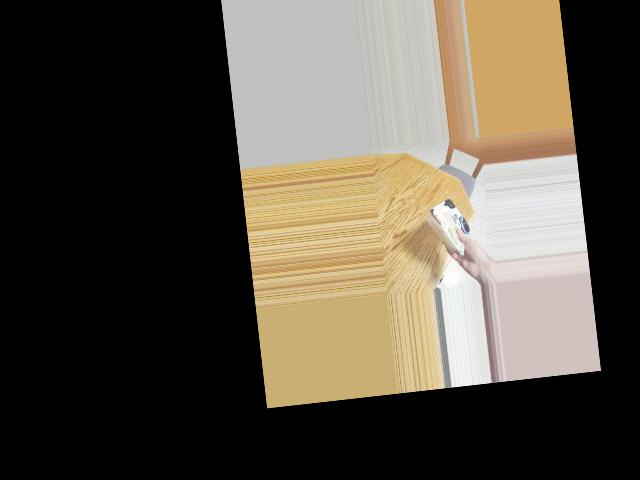cheese: (419, 198, 478, 250)
